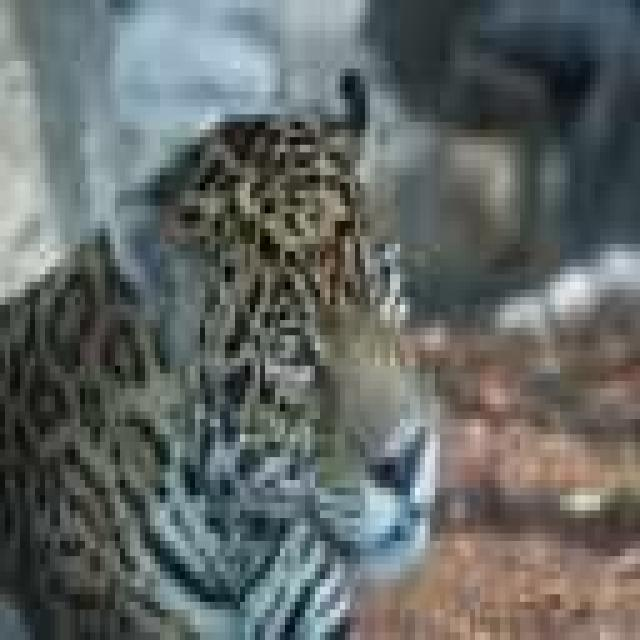Leopard: (0, 38, 445, 625)
